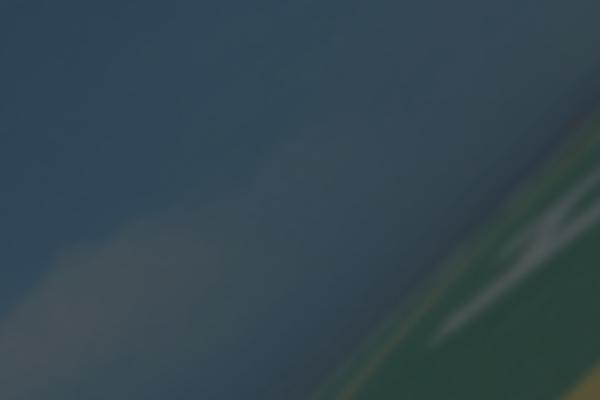Apron: (317, 123, 600, 400)
